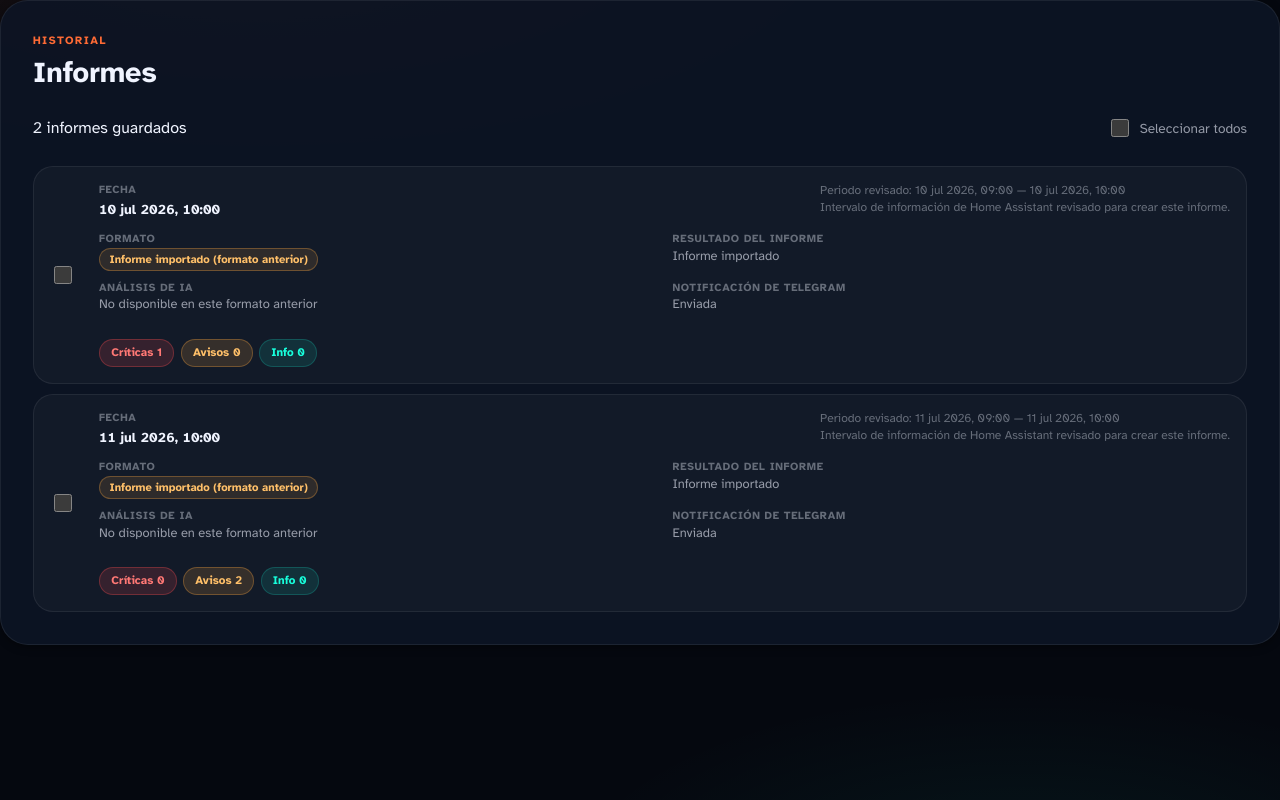
Scenario: Report History Batch Selection and Deletion › toggles "Select All" checkbox to select and deselect all reports
// Click select all
Click the checkbox labelled "Seleccionar todos". click: (1120, 128)
box: [1111,119,1129,137]
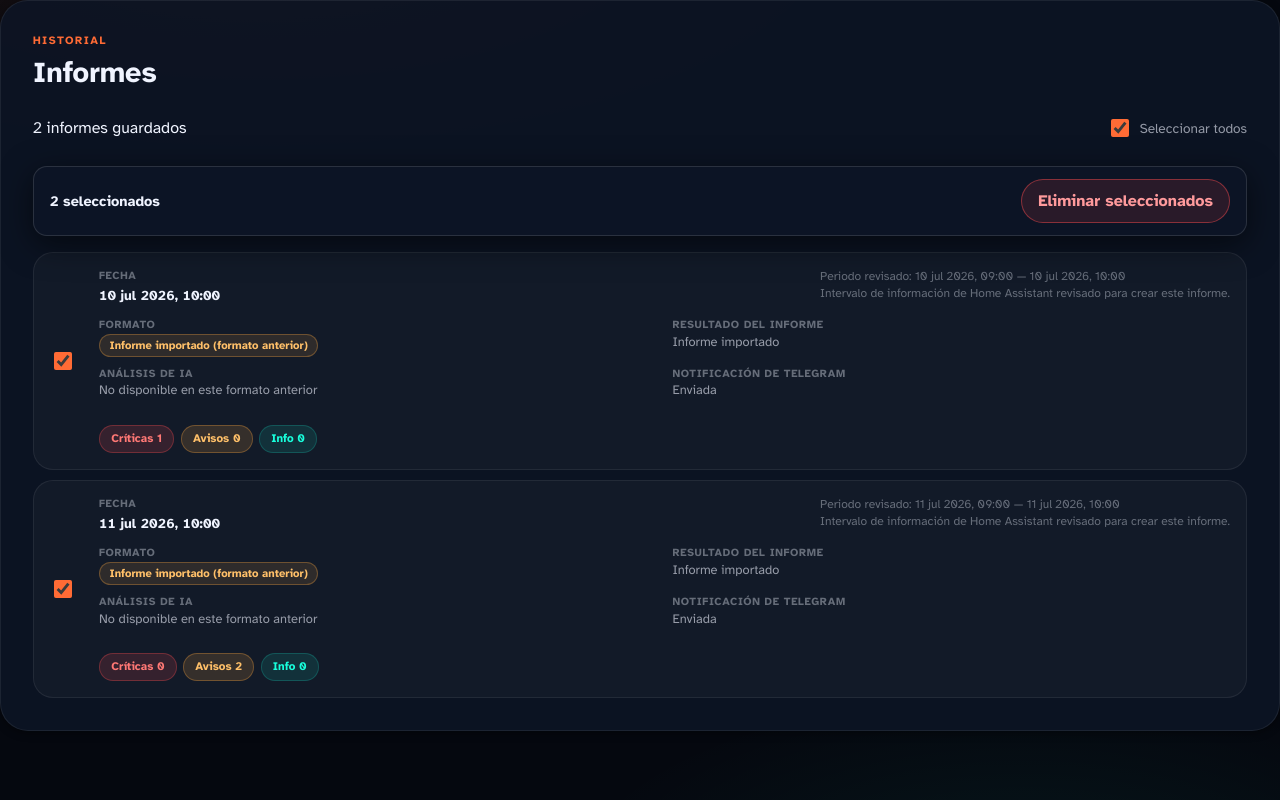
Check: the checkbox labelled "Seleccionar todos" is checked
Check: the element with class "history-batch-toolbar" shows "2 seleccionados", box [50,192,160,210]
// Click select all again to deselect
Click the checkbox labelled "Seleccionar todos". click: (1120, 128)
box: [1111,119,1129,137]
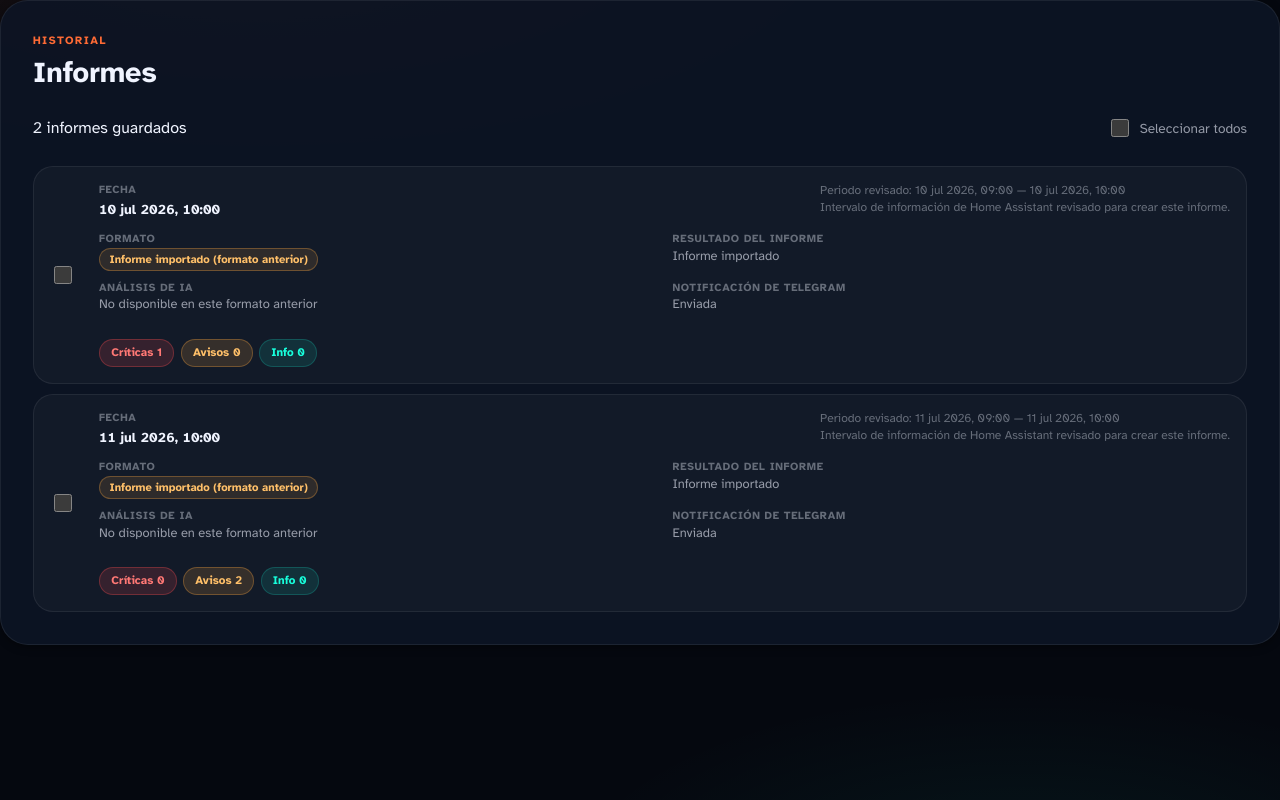
Check: the checkbox labelled "Seleccionar todos" is not checked, box [1111,119,1129,137]
Check: the element with class "history-batch-toolbar" is gone
